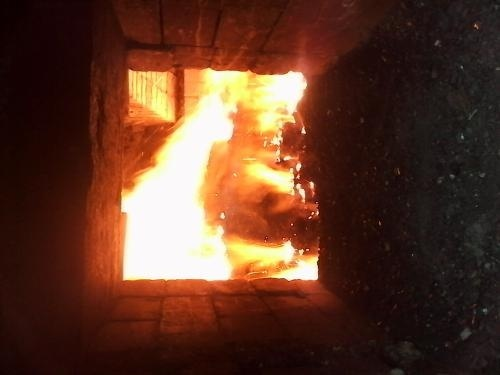fire: (119, 79, 238, 277), (215, 67, 310, 142), (244, 160, 312, 199), (265, 239, 318, 282)
